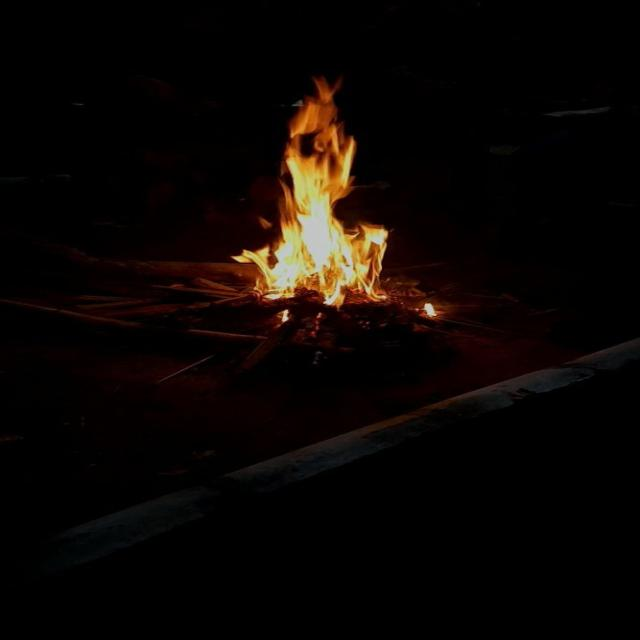fire: (234, 76, 391, 304)
